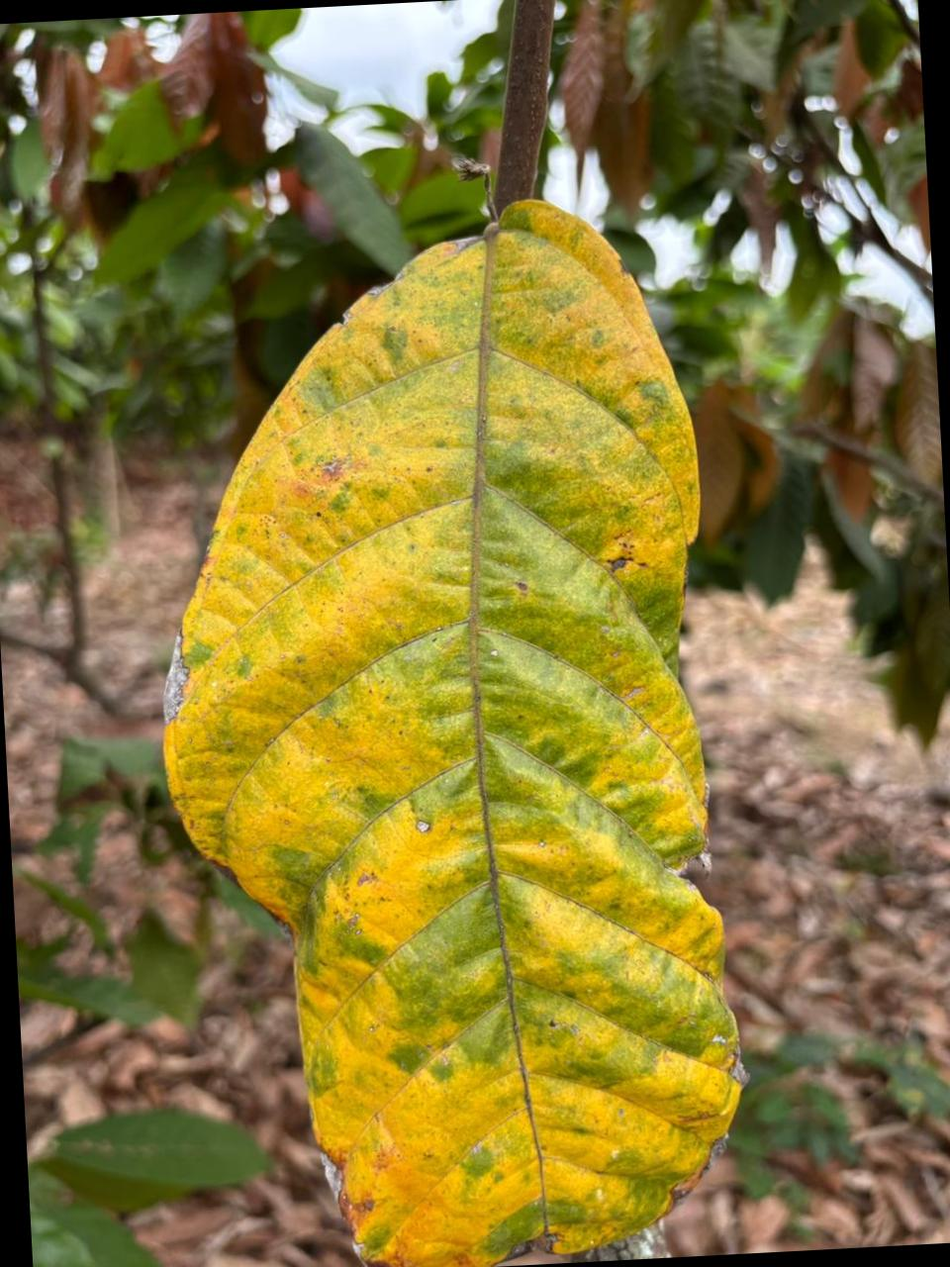Fosforo: (164, 200, 742, 1266)
